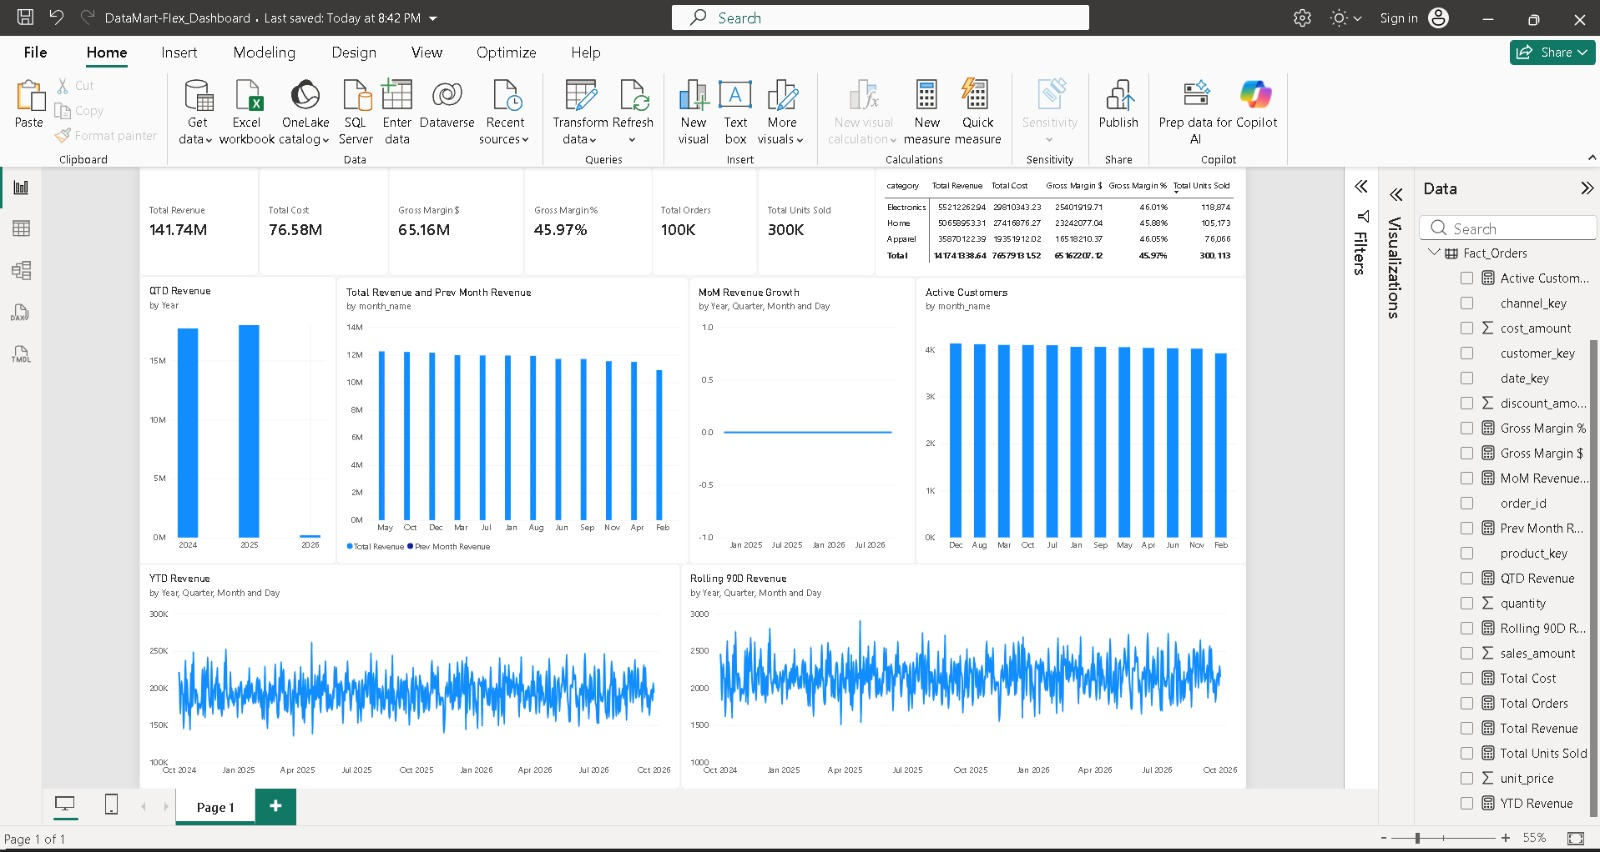

What the dashboard file says about the page in this screenshot:
{"tool":"powerbi","page":{"name":"Page 1","canvas":[1920,1080],"ordinal":0},"visuals":[{"type":"lineChart","fields":{"Category":["Dim_Date.full_date.Variation.Date Hierarchy.Year","Dim_Date.full_date.Variation.Date Hierarchy.Quarter","Dim_Date.full_date.Variation.Date Hierarchy.Month","Dim_Date.full_date.Variation.Date Hierarchy.Day"],"Y":["Fact_Orders.YTD Revenue"]},"box":[0,689.5,938.6,391.1],"z":0},{"type":"clusteredColumnChart","fields":{"Category":["Dim_Date.full_date.Variation.Date Hierarchy.Year","Dim_Date.full_date.Variation.Date Hierarchy.Quarter","Dim_Date.full_date.Variation.Date Hierarchy.Month","Dim_Date.full_date.Variation.Date Hierarchy.Day"],"Y":["Fact_Orders.QTD Revenue"]},"box":[0,189.4,341.7,500.2],"z":1000},{"type":"clusteredColumnChart","fields":{"Category":["Dim_Date.month_name"],"Y":["Fact_Orders.Total Revenue","Fact_Orders.Prev Month Revenue"]},"box":[341.7,191.4,611.3,498.1],"z":2000},{"type":"lineChart","fields":{"Category":["Dim_Date.full_date.Variation.Date Hierarchy.Year","Dim_Date.full_date.Variation.Date Hierarchy.Quarter","Dim_Date.full_date.Variation.Date Hierarchy.Month","Dim_Date.full_date.Variation.Date Hierarchy.Day"],"Y":["Fact_Orders.MoM Revenue Growth"]},"box":[953,191.4,393.1,498.1],"z":3000},{"type":"cardVisual","fields":{"Data":["Fact_Orders.Total Revenue"]},"box":[0,0,207.9,189.4],"z":4000},{"type":"cardVisual","fields":{"Data":["Fact_Orders.Total Orders"]},"box":[889.2,0,183.2,189.4],"z":5000},{"type":"cardVisual","fields":{"Data":["Fact_Orders.Total Cost"]},"box":[207.9,0,224.4,189.4],"z":6000},{"type":"cardVisual","fields":{"Data":["Fact_Orders.Gross Margin %"]},"box":[666.9,0,222.3,189.4],"z":7000},{"type":"cardVisual","fields":{"Data":["Fact_Orders.Gross Margin $"]},"box":[432.2,0,234.6,189.4],"z":8000},{"type":"cardVisual","fields":{"Data":["Fact_Orders.Total Units Sold"]},"box":[1072.4,0,203.8,189.4],"z":9000},{"type":"pivotTable","fields":{"Rows":["Dim_Products.category"],"Values":["Fact_Orders.Total Revenue","Fact_Orders.Total Cost","Fact_Orders.Gross Margin $","Fact_Orders.Gross Margin %","Fact_Orders.Total Units Sold"]},"box":[1276.2,2.1,644.3,189.4],"z":10000},{"type":"lineChart","fields":{"Category":["Dim_Date.full_date.Variation.Date Hierarchy.Year","Dim_Date.full_date.Variation.Date Hierarchy.Quarter","Dim_Date.full_date.Variation.Date Hierarchy.Month","Dim_Date.full_date.Variation.Date Hierarchy.Day"],"Y":["Fact_Orders.Rolling 90D Revenue"]},"box":[938.6,689.5,981.8,391.1],"z":11000},{"type":"columnChart","fields":{"Category":["Dim_Date.month_name"],"Y":["Fact_Orders.Active Customers"]},"box":[1346.1,191.4,574.3,498.1],"z":12000}]}

Visuals, with their boxes on the page's 1920x1080 design canvas (x1, y1, x2, y2). These are canvas units, not pixel positions in the 1600x852 screenshot, which may show the page scaled, cropped or inside an application window:
lineChart - Dim_Date.full_date.Variation.Date Hierarchy.Year x Dim_Date.full_date.Variation.Date Hierarchy.Quarter: <box>0,690,939,1081</box>
clusteredColumnChart - Dim_Date.full_date.Variation.Date Hierarchy.Year x Dim_Date.full_date.Variation.Date Hierarchy.Quarter: <box>0,189,342,690</box>
clusteredColumnChart - Dim_Date.month_name x Fact_Orders.Total Revenue: <box>342,191,953,690</box>
lineChart - Dim_Date.full_date.Variation.Date Hierarchy.Year x Dim_Date.full_date.Variation.Date Hierarchy.Quarter: <box>953,191,1346,690</box>
cardVisual - Fact_Orders.Total Revenue: <box>0,0,208,189</box>
cardVisual - Fact_Orders.Total Orders: <box>889,0,1072,189</box>
cardVisual - Fact_Orders.Total Cost: <box>208,0,432,189</box>
cardVisual - Fact_Orders.Gross Margin %: <box>667,0,889,189</box>
cardVisual - Fact_Orders.Gross Margin $: <box>432,0,667,189</box>
cardVisual - Fact_Orders.Total Units Sold: <box>1072,0,1276,189</box>
pivotTable - Dim_Products.category x Fact_Orders.Total Revenue: <box>1276,2,1920,192</box>
lineChart - Dim_Date.full_date.Variation.Date Hierarchy.Year x Dim_Date.full_date.Variation.Date Hierarchy.Quarter: <box>939,690,1920,1081</box>
columnChart - Dim_Date.month_name x Fact_Orders.Active Customers: <box>1346,191,1920,690</box>
